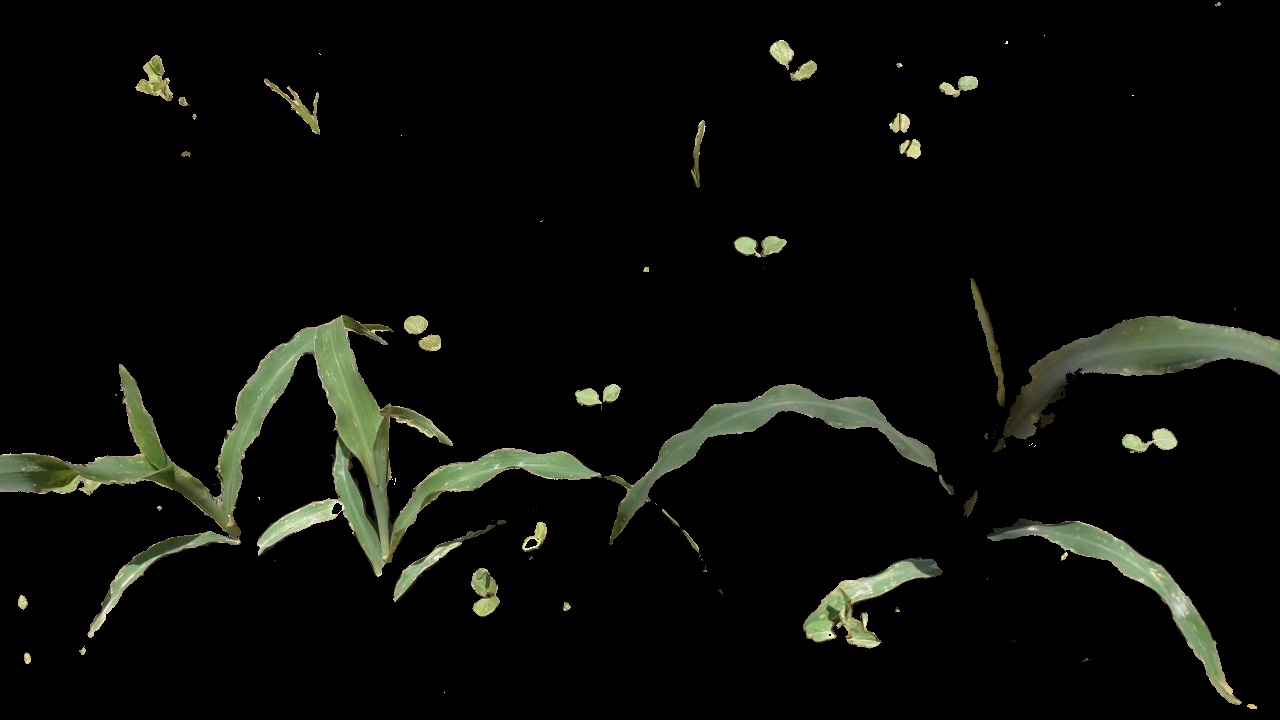crop: (622, 281, 1280, 720), (33, 326, 324, 622), (318, 303, 591, 613)
weed: (241, 62, 350, 144), (117, 52, 195, 127), (762, 36, 827, 92), (398, 305, 446, 366), (688, 98, 722, 177), (883, 108, 921, 165), (578, 378, 630, 419), (1127, 408, 1164, 465), (731, 229, 793, 262), (470, 571, 499, 621), (937, 63, 976, 97), (520, 511, 544, 550)
